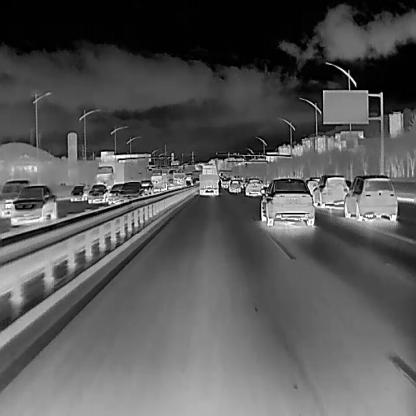car: (343, 172, 398, 222), (260, 177, 314, 227), (9, 184, 56, 228), (312, 172, 350, 210), (0, 178, 30, 218), (116, 180, 144, 206), (86, 182, 108, 203), (242, 176, 263, 196), (106, 182, 123, 203), (70, 184, 88, 200), (138, 179, 153, 194), (226, 180, 241, 194), (219, 177, 228, 188)
truck: (95, 161, 136, 189), (198, 163, 219, 196), (150, 168, 166, 187), (172, 171, 185, 187)
